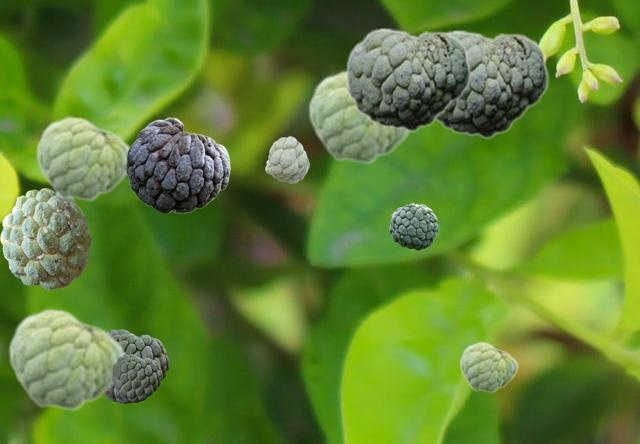atis: (345, 27, 470, 131), (435, 29, 548, 138), (7, 307, 125, 411), (307, 69, 413, 164), (126, 117, 229, 212), (0, 188, 90, 288), (35, 115, 131, 201), (105, 329, 168, 402), (459, 341, 517, 392), (112, 354, 161, 400), (389, 203, 437, 249), (265, 136, 308, 182)
